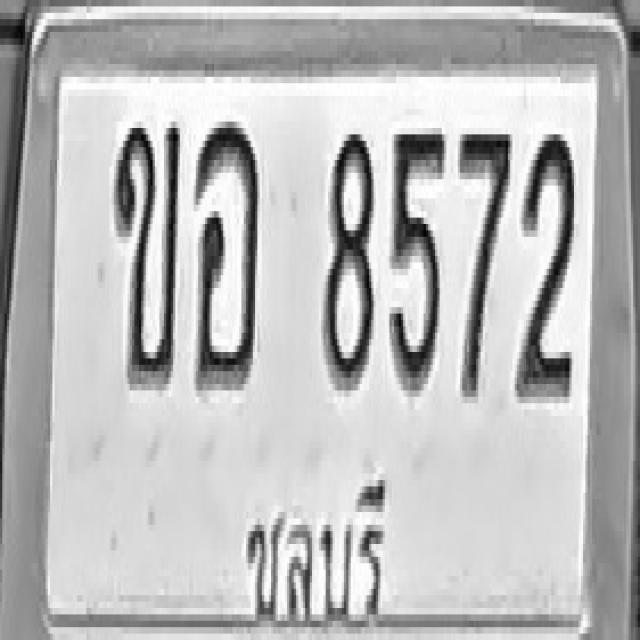11KhorKhai: (114, 119, 180, 388)
2: (515, 128, 574, 397)
5: (390, 124, 444, 393)
52OrAng: (194, 119, 258, 388)
7: (458, 128, 510, 397)
8: (322, 128, 372, 390)
Chonburi: (240, 473, 389, 638)
